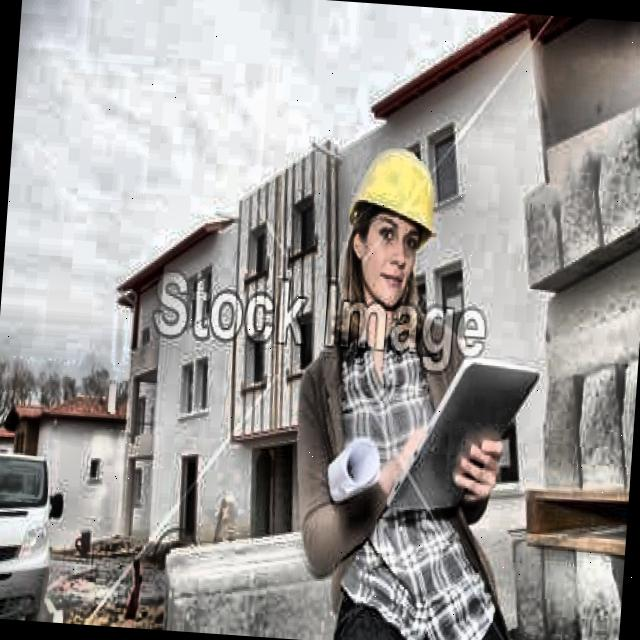helmet: (333, 124, 444, 316)
